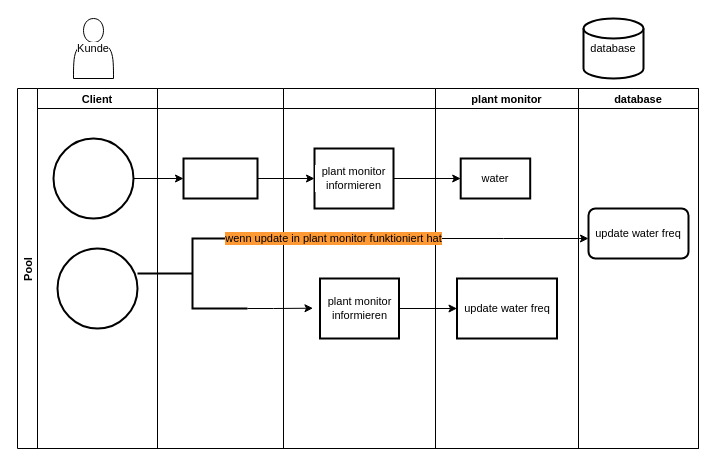
Some shapes in this 716 by 466 pixel diagram are drawn without their labels. The shapes that lost their labels are listed below. From the top down, each one's box as (x1, y1, x2, y2) in pixels, then its label:
(52, 137, 134, 219): Start extra gießen
(182, 157, 258, 199): water reqest erhalten
(56, 247, 138, 329): Update Gießplan
(156, 88, 284, 448): Server
(282, 88, 436, 448): zigbee gateway
